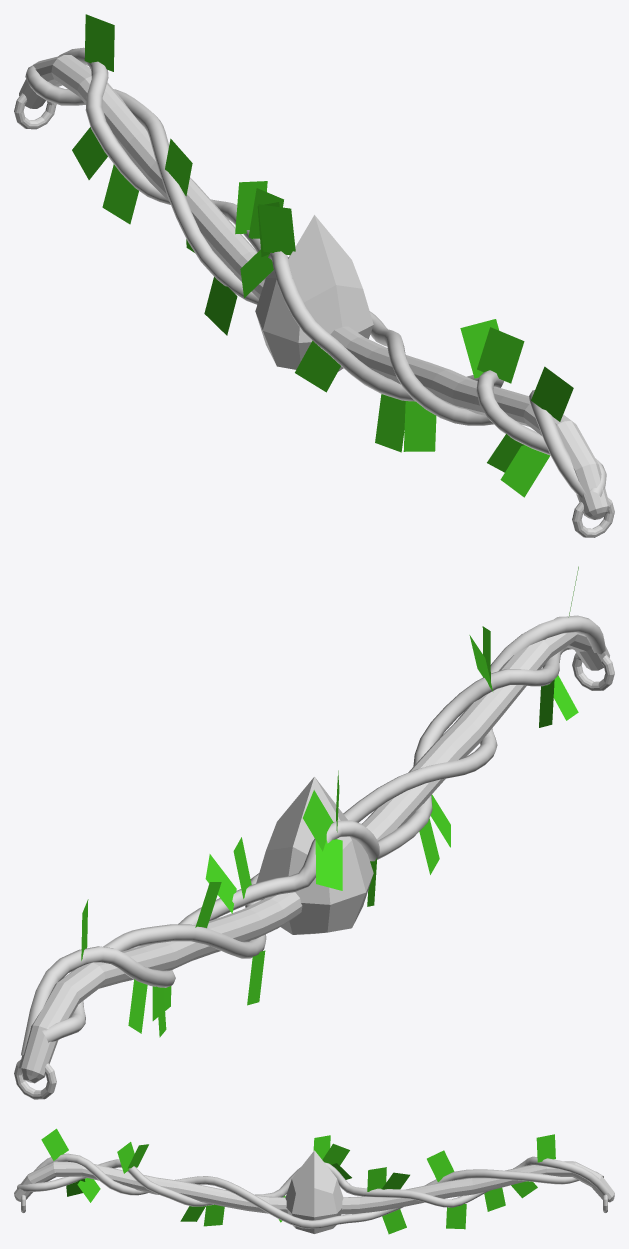
Rendered from WaageArm.fbx.
3 views of the same model, one above another, from view 1: azimuth 30°, elevation 25°; view 2: azimuth 150°, elevation 25°; view 3: azimuth 270°, elevation 25° (orthographic). The views are drawn at different scales.
Parts seen in each view (by area): view 1: Arm.003; view 2: Arm.003; view 3: Arm.003.
Boxes of the visible parts, box(x1,y1,x2,y2) form: Arm.003: box(14, 14, 614, 537); Arm.003: box(14, 566, 614, 1099); Arm.003: box(14, 1128, 614, 1234).
Size of the model in its own units: 1620 by 181 by 315.
